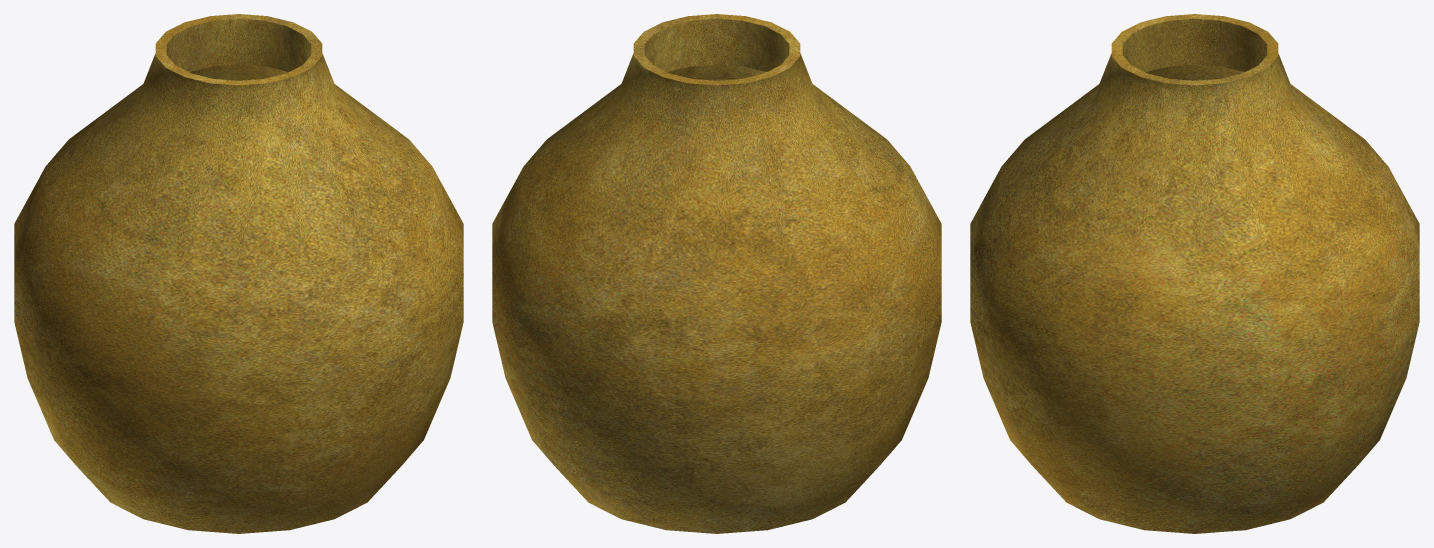
Rendered from Vase 2.FBX.
3 renders of one model, left to right at view 1: azimuth 30°, elevation 25°; view 2: azimuth 150°, elevation 25°; view 3: azimuth 270°, elevation 25°, orthographic.
Visible parts, largest first — view 1: Vase 2; view 2: Vase 2; view 3: Vase 2.
Boxes of the visible parts, x1,y1,x2,y2 form: Vase 2: (14,14,463,533); Vase 2: (492,14,941,533); Vase 2: (970,14,1419,533).
Bounding box in the file's own units: 17.72 × 18.05 × 17.45.
Materials: 1 (1 with a texture image).
